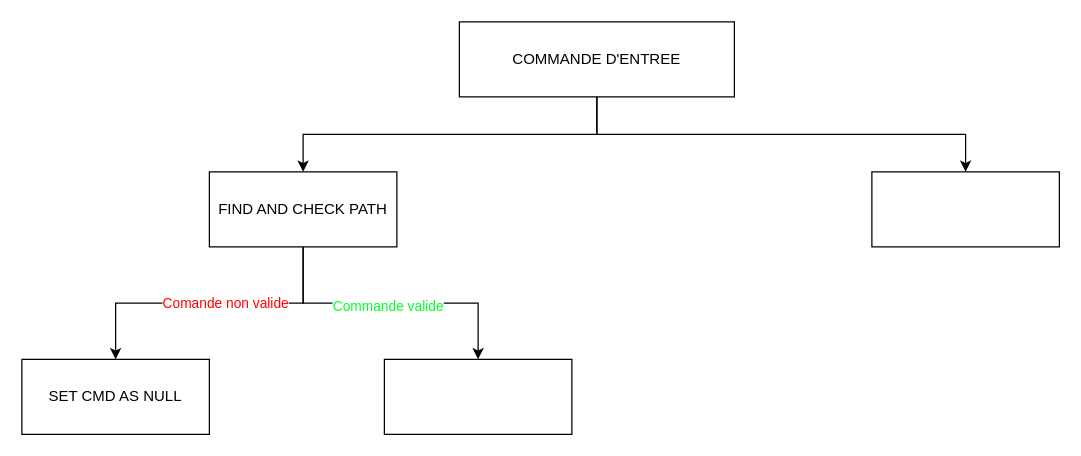
Some shapes in this 1081 by 456 pixel diagram are drawn without their labels. The shapes that lost their labels are listed below. From the top down, each one's centre as x and y in pixels, then its label:
the point at 965,209: CMD + OPTIONS + ARGUMENTS
the point at 477,396: Ajouter PATH dans la structure
